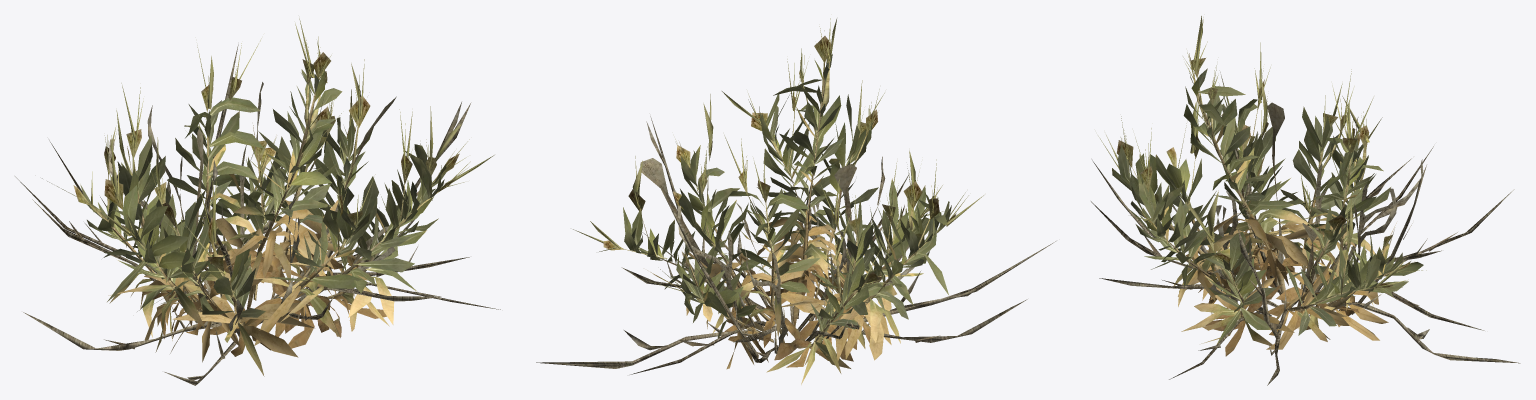
File: desert_rhazya.glb
3 views of the same model, side by side, from view 1: azimuth 30°, elevation 25°; view 2: azimuth 150°, elevation 25°; view 3: azimuth 270°, elevation 25° (orthographic). The views are drawn at different scales.
Parts seen in each view (by area): view 1: Rhazya stricta; view 2: Rhazya stricta; view 3: Rhazya stricta.
Boxes of the visible parts, x1,y1,x2,y2 form: Rhazya stricta: (15,18,500,385); Rhazya stricta: (536,18,1055,384); Rhazya stricta: (1091,16,1520,385).
Bounding box in the file's own units: 1.06 × 0.7582 × 0.9697.
Materials: 1 (1 with a texture image).
